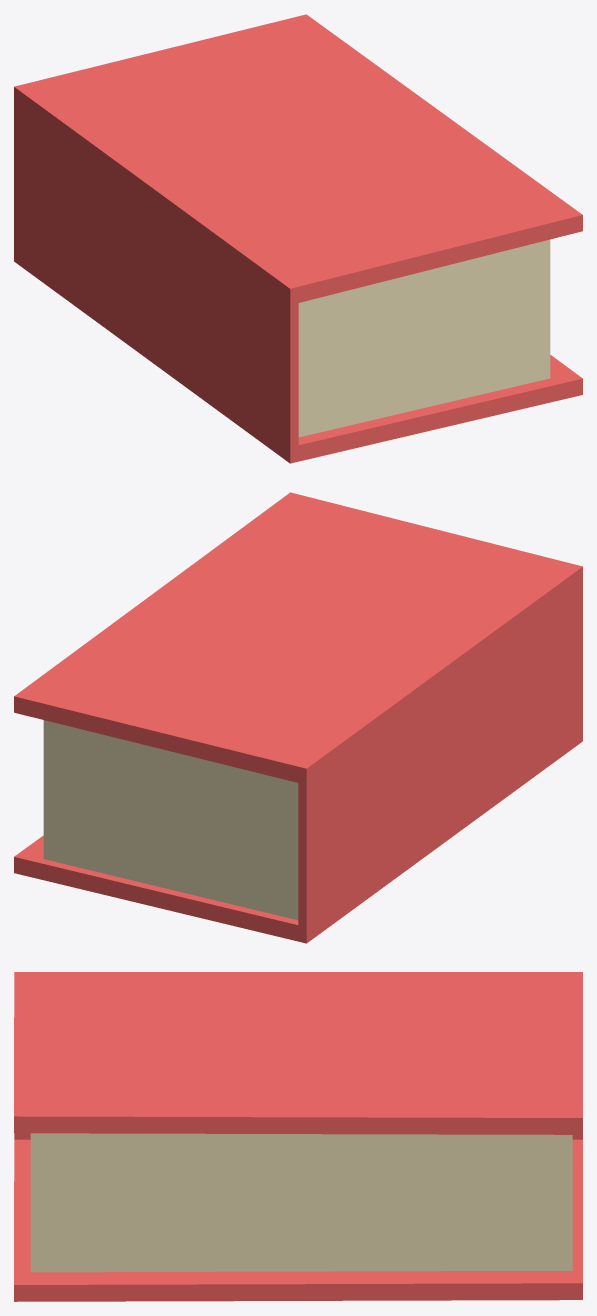
The model's file is Book.fbx.
The picture shows the model from 3 angles, top to bottom: view 1: azimuth 30°, elevation 25°; view 2: azimuth 150°, elevation 25°; view 3: azimuth 270°, elevation 25°; orthographic projection. The views are drawn at different scales.
Parts seen in each view (by area): view 1: Box002.001; view 2: Box002.001; view 3: Box002.001.
Boxes of the visible parts, box(x1,y1,x2,y2) form: Box002.001: box(14, 14, 582, 463); Box002.001: box(14, 492, 582, 943); Box002.001: box(14, 972, 582, 1301).
Size of the model in its own units: 6.12 by 3.6 by 10.
